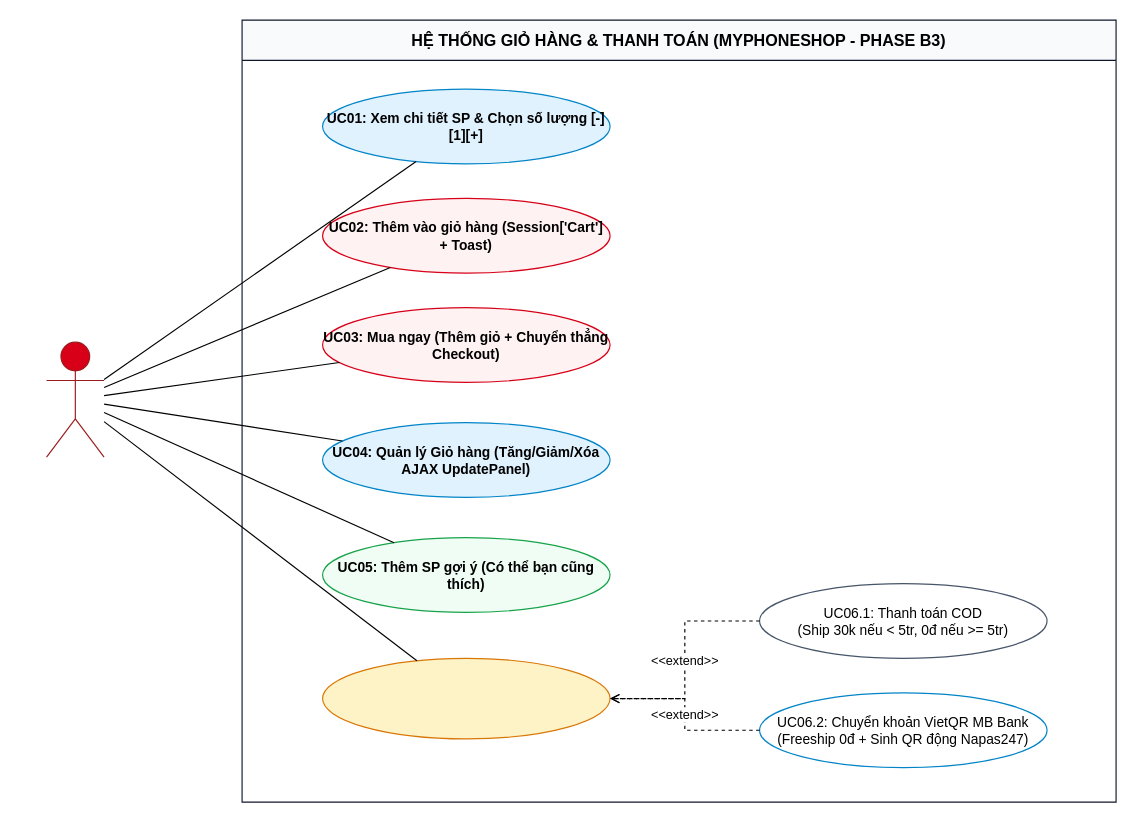
Some shapes in this 1136 by 822 pixel diagram are drawn without their labels. Here are the shapes that lost their labels. From the top down, the centre of each, then its label:
At (x=74, y=399): "Khách Mua Hàng (Guest / User)".
At (x=465, y=698): "UC06: Đặt hàng & Xuất hóa đơn #MPS{OrderId}".
